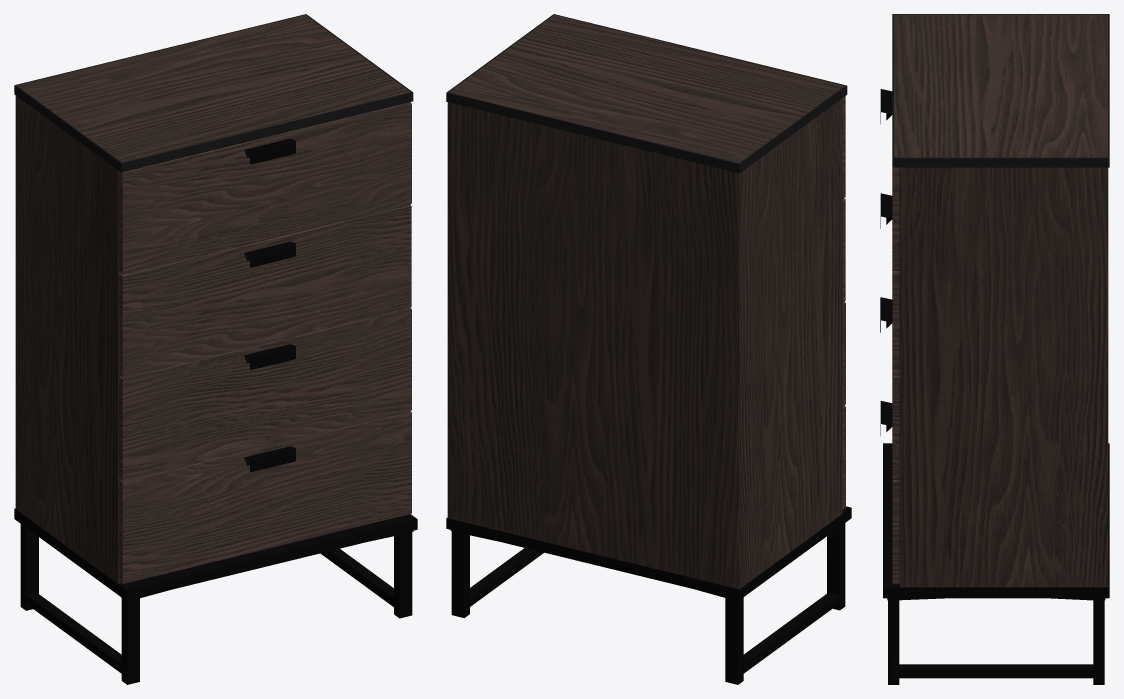
File: Classic_Drawer.glb
The picture shows the model from 3 angles, left to right: view 1: azimuth 30°, elevation 25°; view 2: azimuth 150°, elevation 25°; view 3: azimuth 270°, elevation 25°; orthographic projection.
Parts seen in each view (by area): view 1: Body, Top, Cube.005, Cube.004, Cube.006, Cube.003, Bottom, Handle2, Handle, Handle1, Handle3; view 2: Body, Top, Bottom; view 3: Body, Top, Bottom, Cube.005, Cube.004, Cube.006, Cube.003.
Boxes of the visible parts, <box> form: Body: <box>15,95,120,583</box>; Top: <box>14,14,413,172</box>; Cube.005: <box>119,308,411,480</box>; Cube.004: <box>119,205,411,377</box>; Cube.006: <box>119,411,411,583</box>; Cube.003: <box>119,102,411,274</box>; Bottom: <box>14,508,417,684</box>; Handle2: <box>244,344,295,369</box>; Handle: <box>244,138,295,164</box>; Handle1: <box>244,241,295,267</box>; Handle3: <box>244,446,295,472</box>; Body: <box>447,98,842,589</box>; Top: <box>446,14,847,173</box>; Bottom: <box>446,506,851,684</box>; Body: <box>900,167,1108,587</box>; Top: <box>892,14,1109,167</box>; Bottom: <box>883,443,1109,684</box>; Cube.005: <box>892,270,899,479</box>; Cube.004: <box>892,270,899,375</box>; Cube.006: <box>892,480,899,584</box>; Cube.003: <box>892,167,899,270</box>.
Size of the model in its own units: 0.6567 by 1.12 by 0.44.
Materials: 4 (2 with a texture image).
